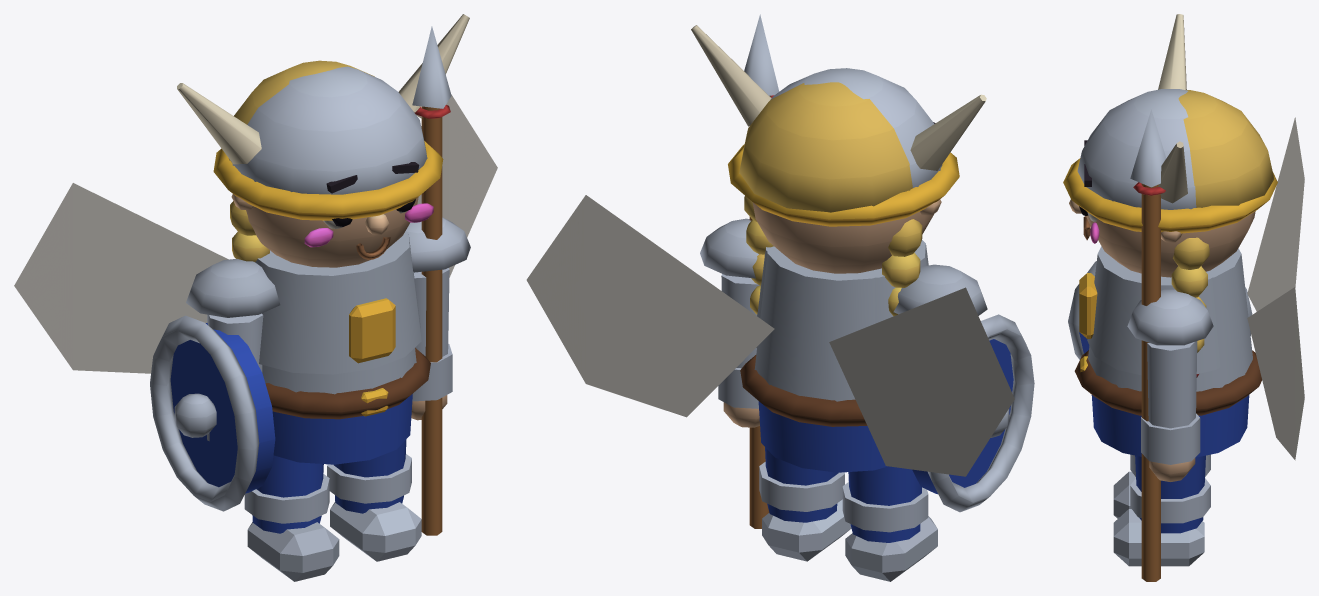
The model's file is hero_hilda.glb.
3 renders of one model, left to right at view 1: azimuth 30°, elevation 25°; view 2: azimuth 150°, elevation 25°; view 3: azimuth 270°, elevation 25°, orthographic. The views are drawn at different scales.
Visible parts, largest first — view 1: body_t0_palette, arml_t0_palette, armr_t0_palette, legl_t0_palette, legr_t0_palette; view 2: body_t0_palette, arml_t0_palette, legl_t0_palette, armr_t0_palette, legr_t0_palette; view 3: body_t0_palette, armr_t0_palette, legr_t0_palette, arml_t0_palette, legl_t0_palette.
Boxes of the visible parts, box(x1,y1,x2,y2) form: body_t0_palette: box(14, 14, 497, 464); arml_t0_palette: box(150, 259, 280, 511); armr_t0_palette: box(406, 26, 470, 535); legl_t0_palette: box(244, 455, 339, 581); legr_t0_palette: box(327, 439, 421, 561); body_t0_palette: box(526, 25, 1014, 476); arml_t0_palette: box(893, 264, 1034, 512); legl_t0_palette: box(842, 466, 937, 581); armr_t0_palette: box(700, 14, 779, 528); legr_t0_palette: box(759, 447, 851, 561); body_t0_palette: box(1063, 14, 1304, 460); armr_t0_palette: box(1127, 109, 1213, 581); legr_t0_palette: box(1113, 455, 1210, 566); arml_t0_palette: box(1068, 261, 1252, 359); legl_t0_palette: box(1113, 454, 1210, 518).
Bounding box in the file's own units: 0.54 × 0.545 × 0.252.
